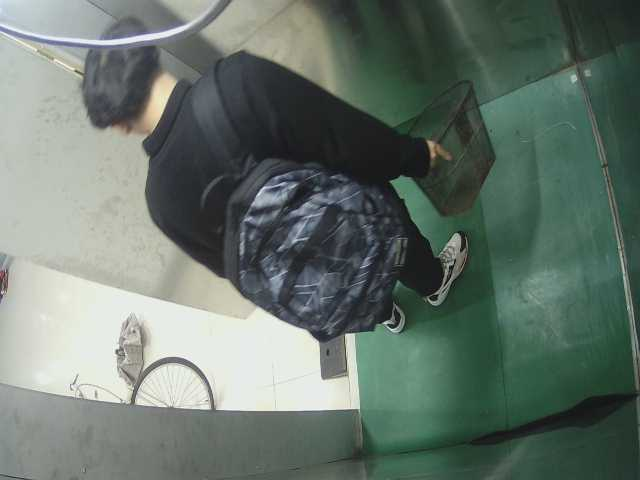bicycle: (68, 352, 228, 423)
person: (81, 19, 476, 345)
